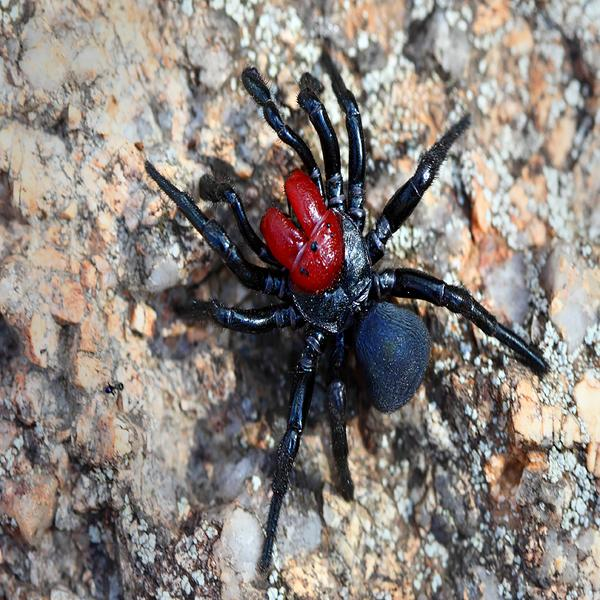Red Headed Mouse Spider: (147, 52, 538, 571)
